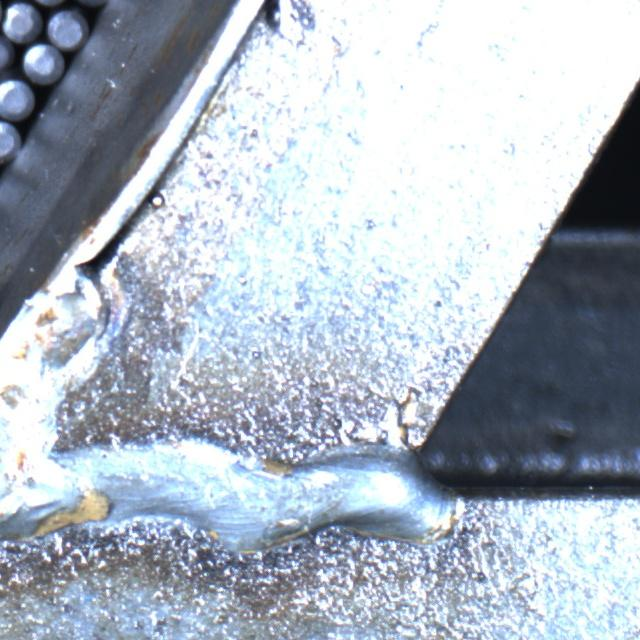tool: (2, 0, 43, 41), (22, 42, 63, 83), (48, 8, 89, 49), (0, 77, 33, 119), (0, 120, 21, 163), (0, 33, 15, 75)
